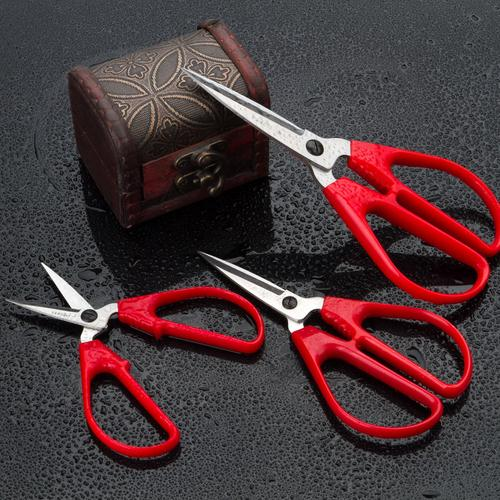scissor: (180, 66, 497, 303), (5, 260, 264, 464), (195, 248, 473, 437)
